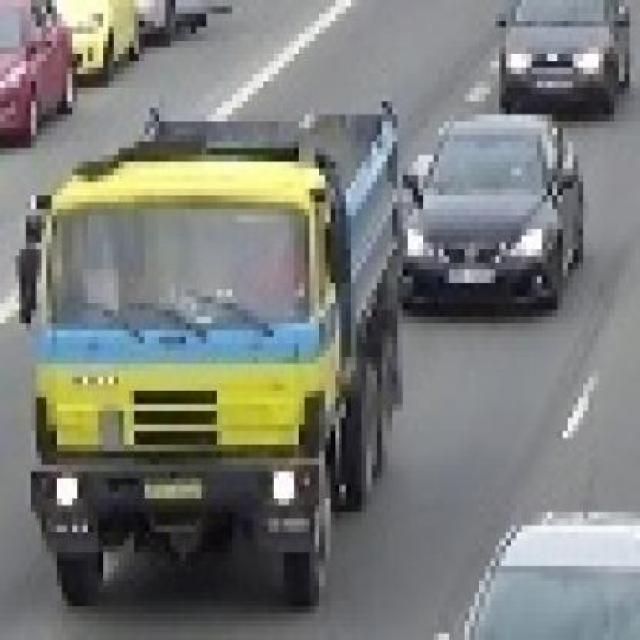truck: (22, 95, 414, 607)
